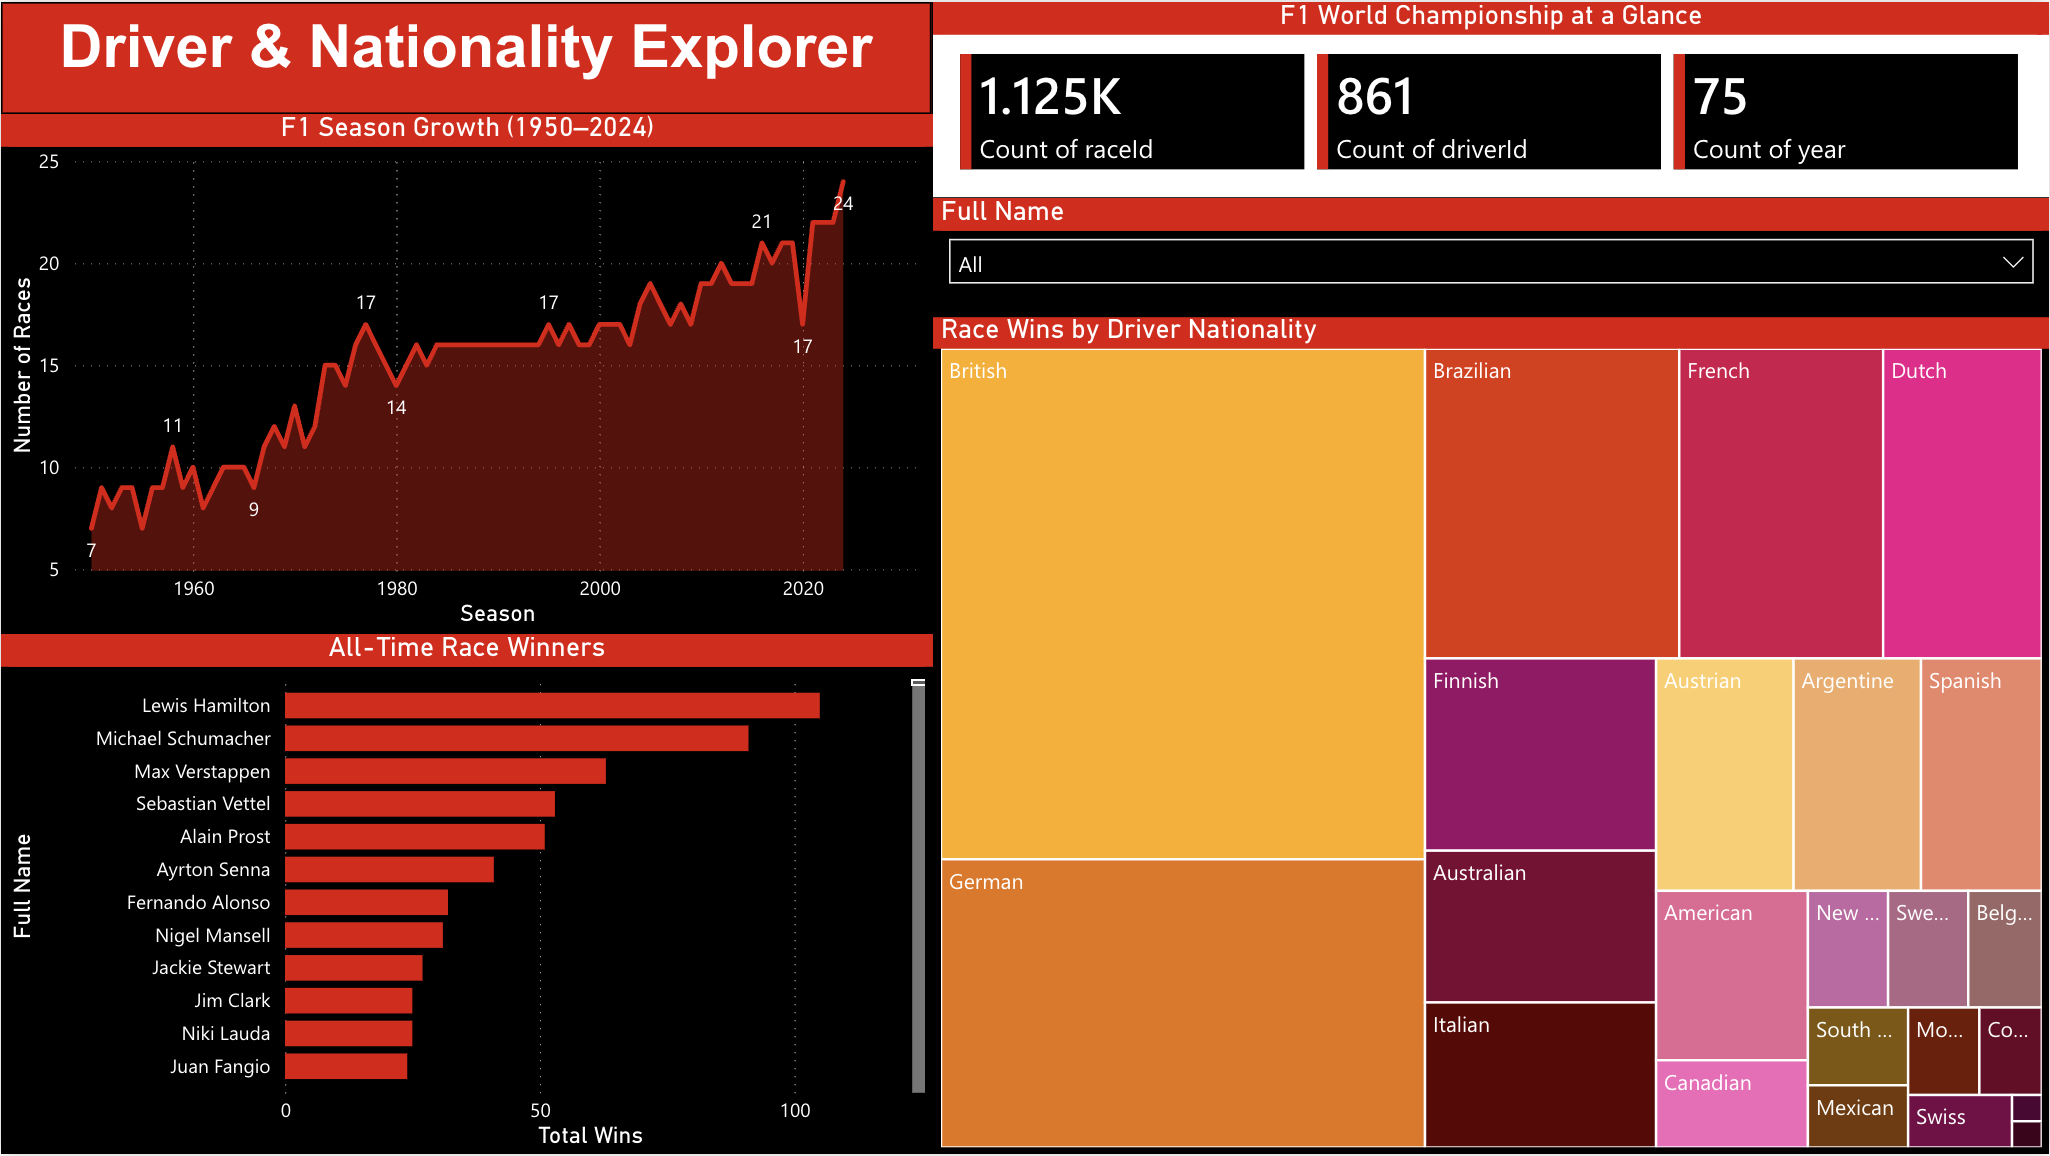

The page's visual inventory and layout, read from the dashboard file:
{"tool":"powerbi","page":{"name":"Driver","canvas":[1280,720],"ordinal":0},"visuals":[{"type":"treemap","title":"Race Wins by Driver Nationality","fields":{"Group":["f1_master 1.nationality"],"Values":["Sum(f1_master 1.is_win)"]},"box":[582,196.5,698,524.7],"z":0},{"type":"barChart","title":"All-Time Race Winners","fields":{"Category":["f1_master 1.full_name"],"Y":["Sum(f1_master 1.is_win)"]},"box":[0,379.9,582.6,341.2],"z":1000},{"type":"cardVisual","title":"F1 World Championship at a Glance","fields":{"Data":["Count(f1_master 1.raceId)","Count(f1_master 1.driverId)","Count(f1_master 1.year)"]},"box":[582.6,0,697.8,121.8],"z":2000},{"type":"slicer","title":"Full Name","fields":{"Values":["f1_master 1.full_name"]},"box":[582,122,698,74.4],"z":3000},{"type":"lineChart","title":"F1 Season Growth (1950–2024)","fields":{"Category":["f1_master 1.year"],"Y":["Sum(f1_master 1.is_win)"]},"box":[0,51.2,582.5,328.8],"z":4000},{"type":"textbox","box":[0,0,581.2,51.2],"z":5000}]}

Visuals, with their boxes in screenshot pixels (x1, y1, x2, y2), scaled from the page's 1280x720 canvas onto the 2050x1156 screenshot:
"Race Wins by Driver Nationality" treemap: rect(932, 315, 2049, 1155)
"All-Time Race Winners" barChart: rect(0, 610, 933, 1155)
"F1 World Championship at a Glance" cardVisual: rect(933, 0, 2049, 196)
"Full Name" slicer: rect(932, 196, 2049, 315)
"F1 Season Growth (1950–2024)" lineChart: rect(0, 82, 933, 610)
textbox: rect(0, 0, 931, 82)
